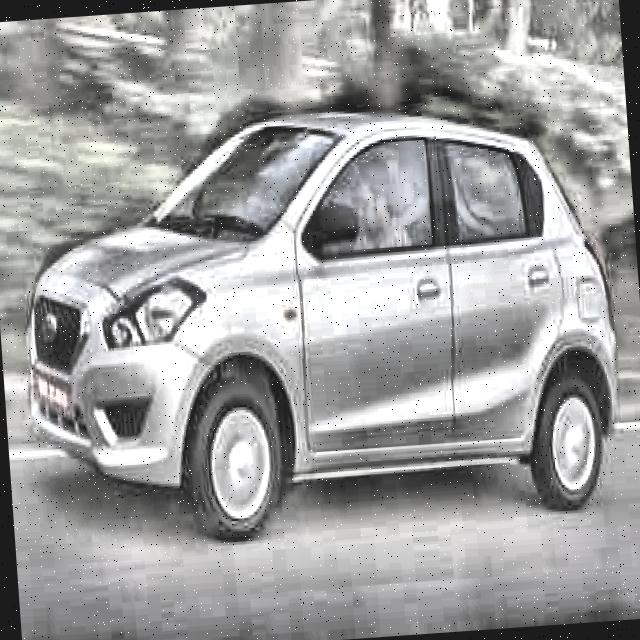license_plate: (26, 366, 74, 425)
